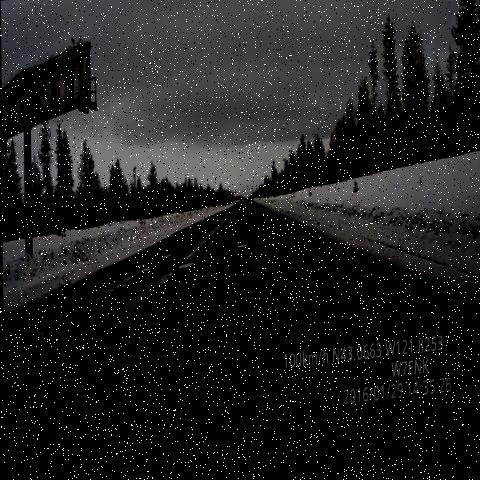pothole: (14, 308, 78, 376), (128, 254, 169, 287), (165, 254, 202, 289), (155, 240, 188, 273), (228, 236, 254, 266), (214, 211, 239, 238), (257, 219, 280, 247), (191, 222, 219, 245), (242, 200, 254, 226)
